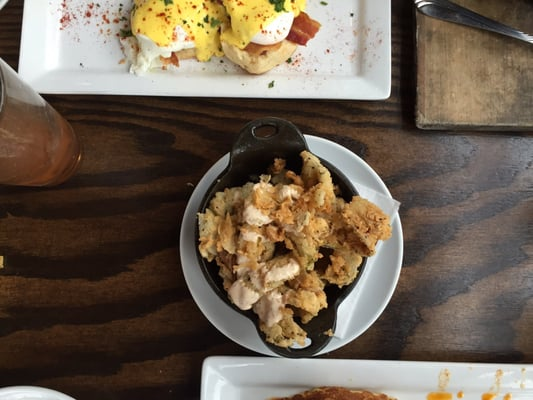sushi: (179, 116, 400, 358)
